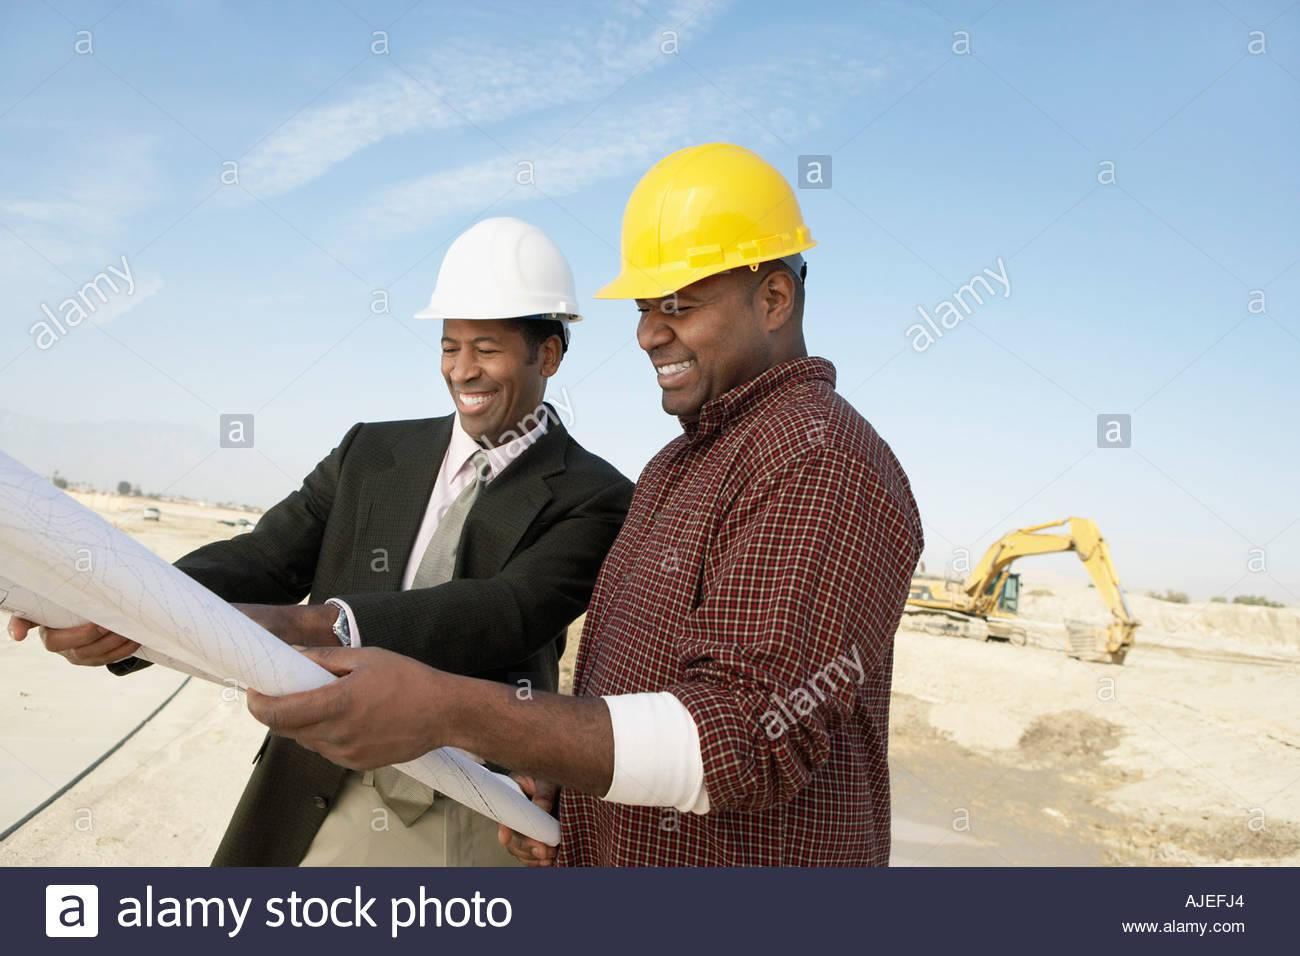hardhat: (594, 142, 818, 301), (410, 217, 597, 319)
worker: (243, 133, 933, 870), (4, 214, 637, 863)
